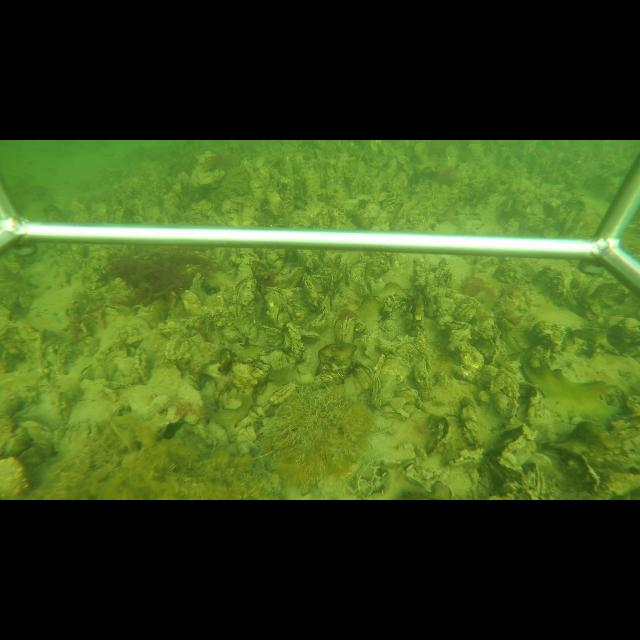Oyster-Closed: (489, 367, 523, 422), (231, 274, 259, 339), (352, 360, 379, 409), (377, 357, 413, 387), (414, 357, 434, 402), (268, 381, 297, 404), (299, 330, 321, 341)
Oyster-Open: (427, 417, 452, 457)
